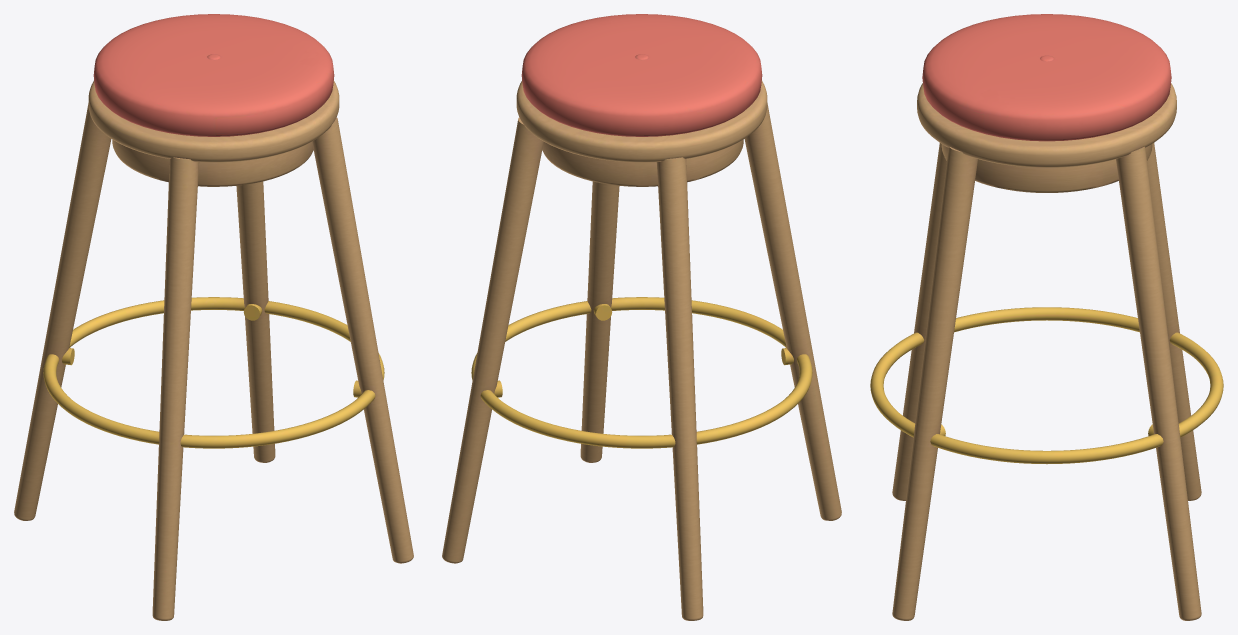
Rendered from bar-stool.glb.
The picture shows the model from 3 angles, left to right: view 1: azimuth 30°, elevation 25°; view 2: azimuth 150°, elevation 25°; view 3: azimuth 270°, elevation 25°; orthographic projection. The views are drawn at different scales.
Visible parts, largest first — view 1: bar-stool_body; view 2: bar-stool_body; view 3: bar-stool_body.
Boxes of the visible parts, bbox=[...] form: bar-stool_body: bbox=[14, 14, 413, 620]; bar-stool_body: bbox=[442, 14, 841, 620]; bar-stool_body: bbox=[870, 14, 1223, 620].
Size of the model in its own units: 0.5032 by 0.7855 by 0.5032.
Materials: 1 (1 with a texture image).
